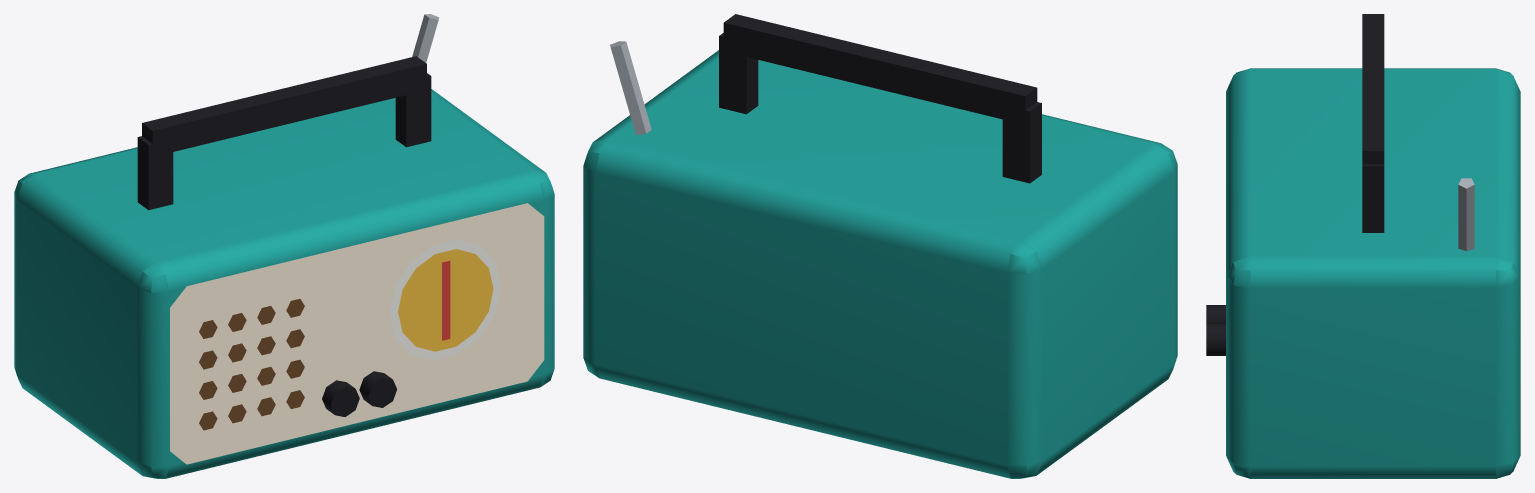
The model's file is RadioCaja.fbx.
3 renders of one model, left to right at view 1: azimuth 30°, elevation 25°; view 2: azimuth 150°, elevation 25°; view 3: azimuth 270°, elevation 25°, orthographic. The views are drawn at different scales.
Visible parts, largest first — view 1: RadioCaja; view 2: RadioCaja; view 3: RadioCaja.
Boxes of the visible parts, x1=… form: RadioCaja: x1=14, y1=14, x2=554, y2=478; RadioCaja: x1=583, y1=14, x2=1177, y2=478; RadioCaja: x1=1206, y1=14, x2=1520, y2=478.
Size of the model in its own units: 2 by 1.36 by 1.28.
1 material, 1 textured.
